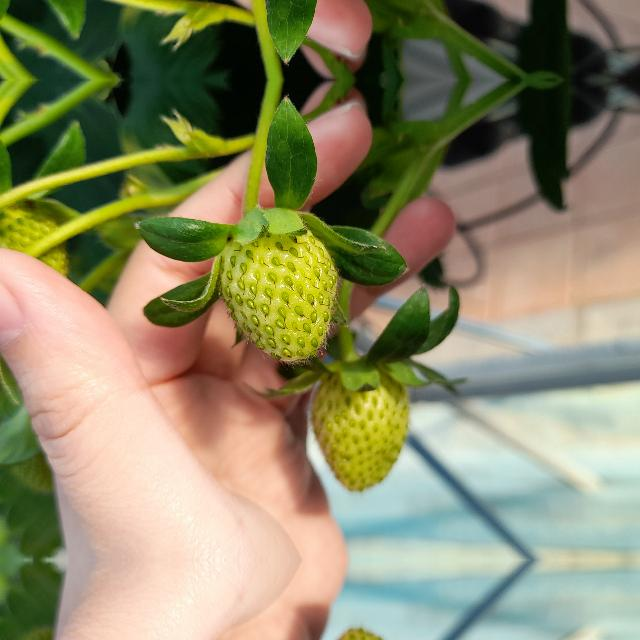Health_25: (218, 228, 338, 362), (312, 359, 411, 493)
